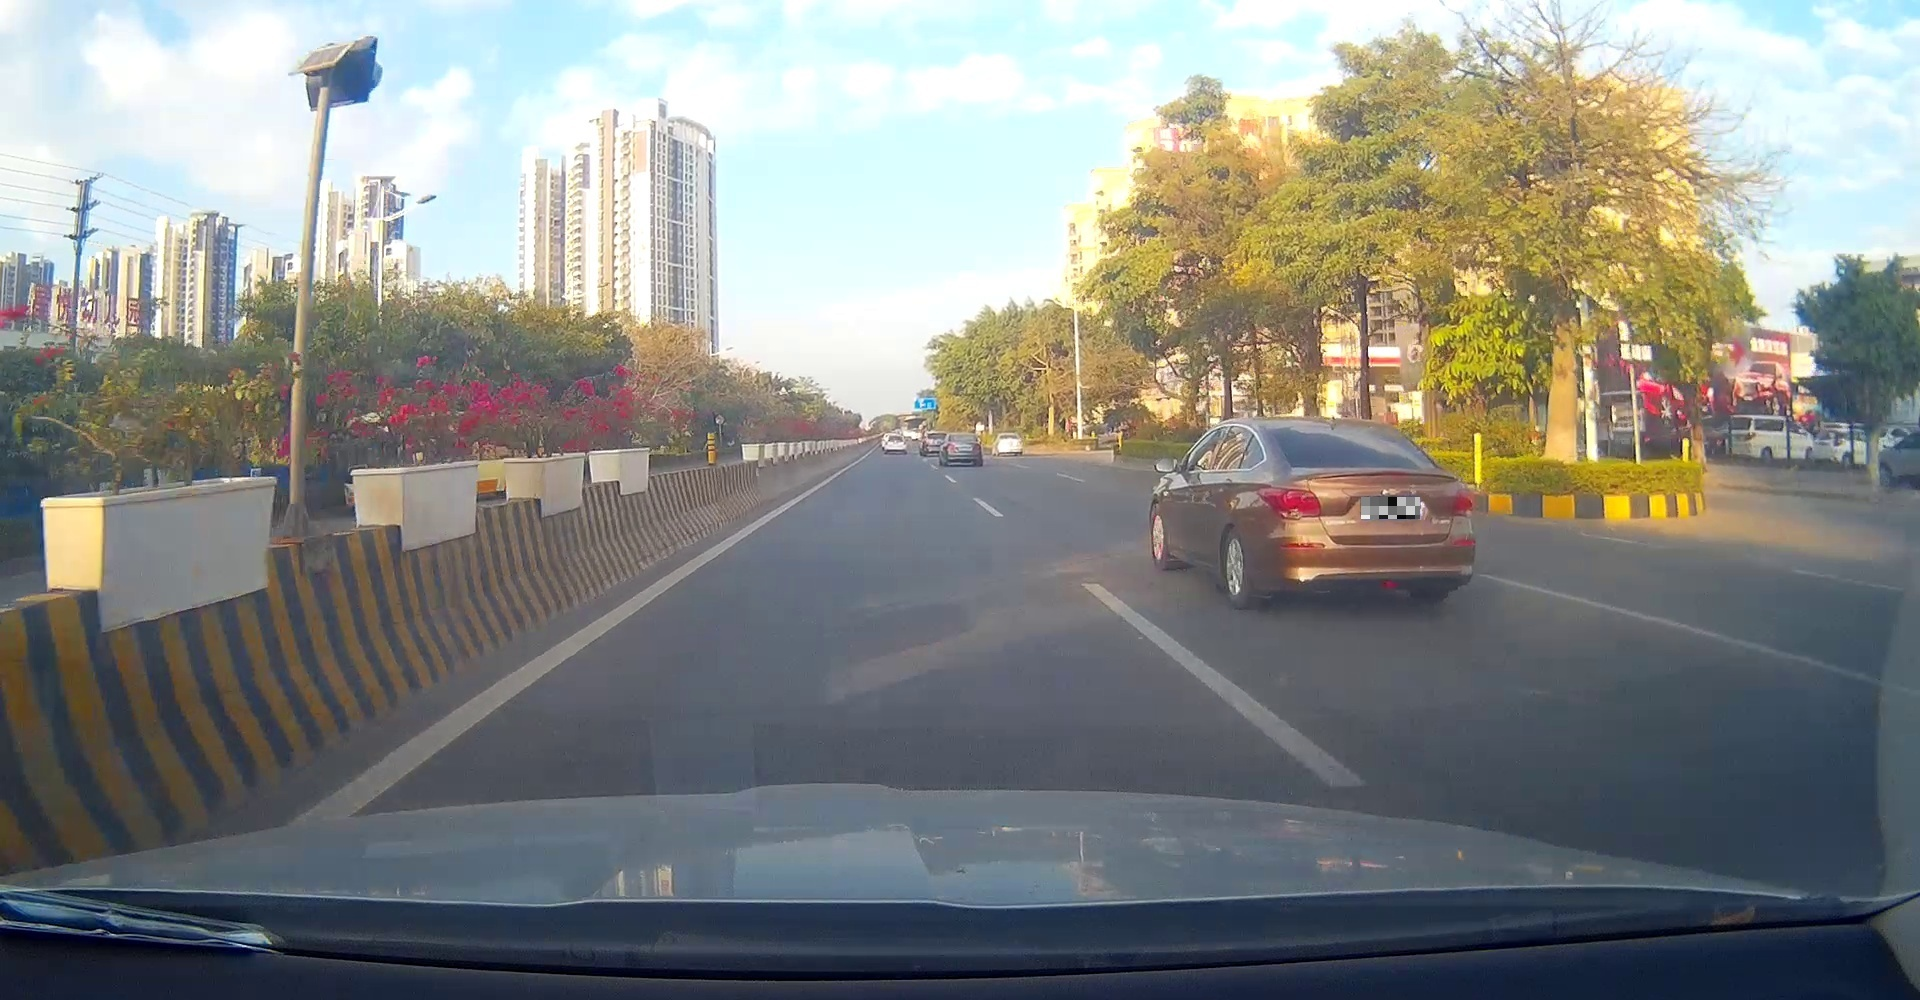L_light: (1256, 486, 1322, 519), (947, 444, 954, 451)
R_light: (1453, 489, 1474, 516), (973, 444, 982, 451)
T_light: (1354, 462, 1378, 467), (963, 435, 968, 437)
day-no: (1251, 418, 1476, 610), (945, 433, 982, 466)
plate_1: (1361, 497, 1420, 519)
